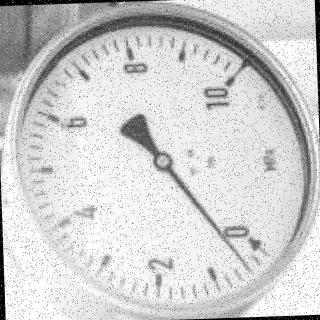gauge: (0, 0, 320, 318), (228, 220, 268, 261), (208, 65, 245, 106), (149, 147, 175, 171), (241, 263, 255, 276)
